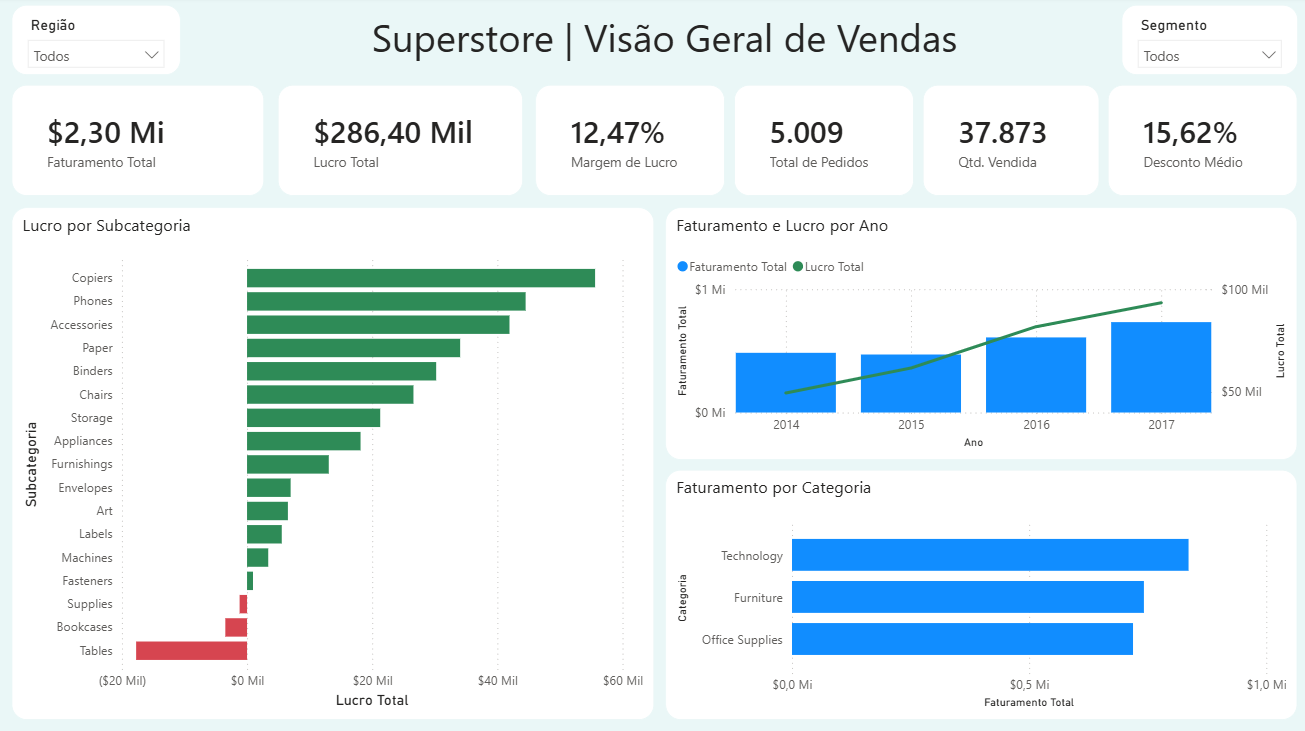

What the dashboard file says about the page in this screenshot:
{"tool":"powerbi","page":{"name":"Visão Geral","canvas":[1280,720],"ordinal":0},"visuals":[{"type":"cardVisual","fields":{"Data":["Orders.Faturamento Total"]},"box":[12.2,86.8,247,108.8],"z":0},{"type":"cardVisual","fields":{"Data":["Orders.Lucro Total"]},"box":[272.7,86.8,239.7,108.8],"z":1000},{"type":"cardVisual","fields":{"Data":["Orders.Margem de Lucro"]},"box":[524.6,86.8,185.9,108.8],"z":2000},{"type":"cardVisual","fields":{"Data":["Orders.Total de Pedidos"]},"box":[719,86.8,176.1,108.8],"z":3000},{"type":"cardVisual","fields":{"Data":["Orders.Quantidade Vendida"]},"box":[903.7,86.8,172.4,108.8],"z":4000},{"type":"cardVisual","fields":{"Data":["Orders.Desconto Médio"]},"box":[1084.7,86.8,185.9,108.8],"z":5000},{"type":"textbox","box":[328.9,9.8,644.4,68.5],"z":6000},{"type":"lineClusteredColumnComboChart","title":"Faturamento e Lucro por Ano","fields":{"Category":["Orders.Order Date.Variation.Hierarquia de datas.Ano","Orders.Order Date.Variation.Hierarquia de datas.Trimestre","Orders.Order Date.Variation.Hierarquia de datas.Mês","Orders.Order Date.Variation.Hierarquia de datas.Dia"],"Y":["Orders.Faturamento Total"],"Y2":["Orders.Lucro Total"]},"box":[651.8,206.7,618.8,247],"z":7000},{"type":"clusteredBarChart","title":"Faturamento por Categoria","fields":{"Category":["Orders.Category"],"Y":["Orders.Faturamento Total"]},"box":[651.8,463.5,618.8,244.6],"z":8000},{"type":"clusteredBarChart","title":"Lucro por Subcategoria","fields":{"Category":["Orders.Sub-Category"],"Y":["Orders.Lucro Total"]},"box":[12.2,206.7,628.5,501.4],"z":9000},{"type":"slicer","fields":{"Values":["Orders.Region"]},"box":[12.2,8.6,165.3,69.1],"z":10000},{"type":"slicer","fields":{"Values":["Orders.Segment"]},"box":[1098.1,8.6,172.4,68.5],"z":11000}]}

Visuals, with their boxes in screenshot pixels (x1, y1, x2, y2), scaled from the page's 1280x720 canvas onto the 1305x731 screenshot:
cardVisual - Orders.Faturamento Total: crop(12, 88, 264, 199)
cardVisual - Orders.Lucro Total: crop(278, 88, 522, 199)
cardVisual - Orders.Margem de Lucro: crop(535, 88, 724, 199)
cardVisual - Orders.Total de Pedidos: crop(733, 88, 913, 199)
cardVisual - Orders.Quantidade Vendida: crop(921, 88, 1097, 199)
cardVisual - Orders.Desconto Médio: crop(1106, 88, 1295, 199)
textbox: crop(335, 10, 992, 79)
"Faturamento e Lucro por Ano" lineClusteredColumnComboChart: crop(665, 210, 1295, 461)
"Faturamento por Categoria" clusteredBarChart: crop(665, 471, 1295, 719)
"Lucro por Subcategoria" clusteredBarChart: crop(12, 210, 653, 719)
slicer - Orders.Region: crop(12, 9, 181, 79)
slicer - Orders.Segment: crop(1120, 9, 1295, 78)
